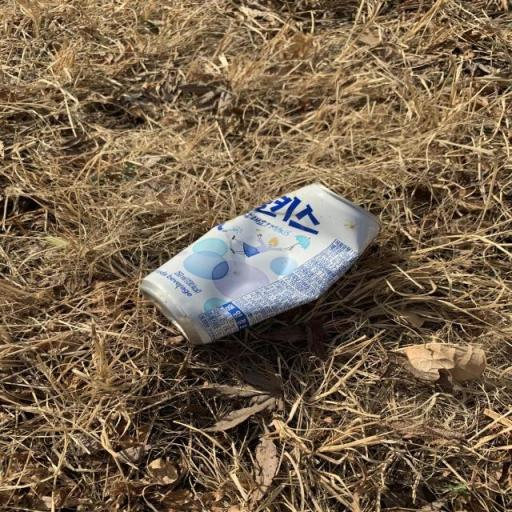metal: (123, 172, 396, 364)
